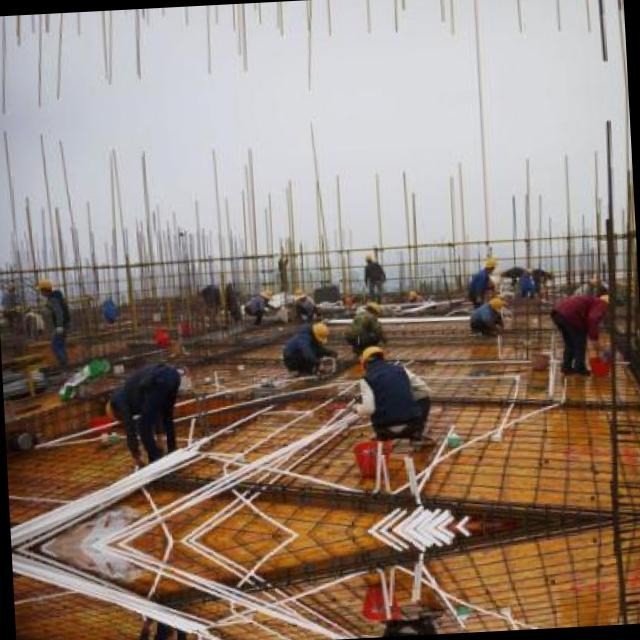helmet: (358, 341, 388, 372), (97, 398, 124, 424), (306, 318, 329, 344), (34, 277, 54, 299), (598, 290, 616, 314), (287, 281, 307, 302), (362, 296, 382, 317), (489, 292, 504, 310), (482, 255, 498, 271)
